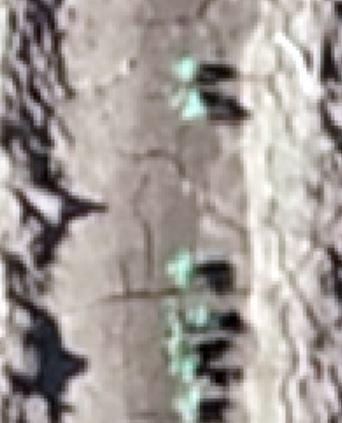cotton: (169, 341, 200, 378), (166, 253, 191, 284), (175, 390, 200, 421), (185, 302, 210, 326), (173, 57, 196, 78), (184, 96, 204, 118)
